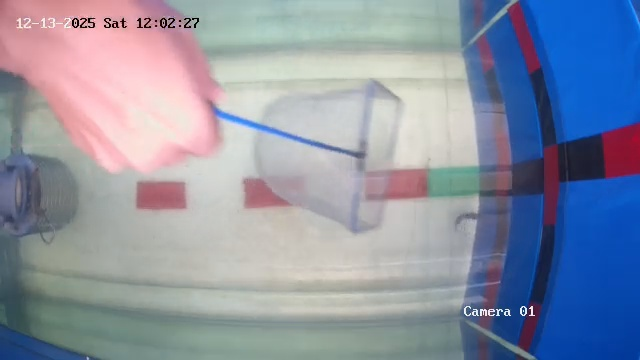fish: (452, 207, 496, 242)
